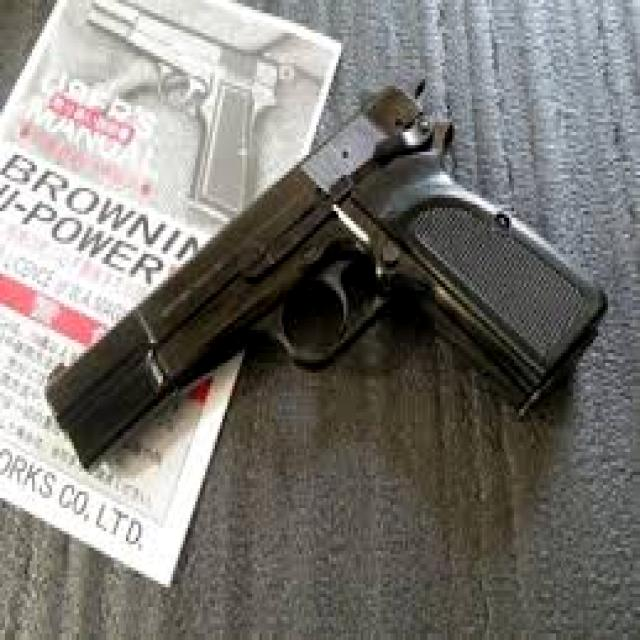semi automatic: (39, 68, 612, 480)
